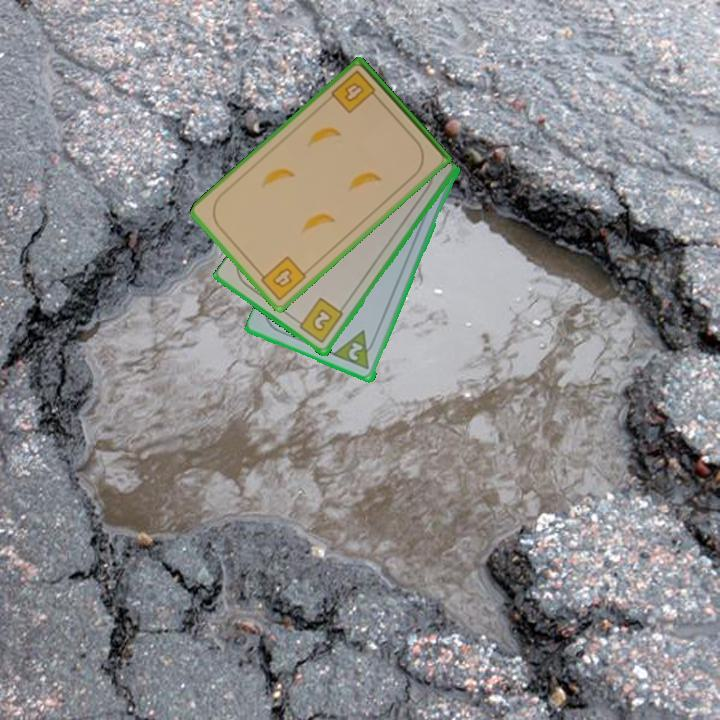2b: (292, 295, 346, 346)
2p: (331, 327, 380, 373)
4b: (254, 253, 309, 304), (328, 67, 382, 117)
